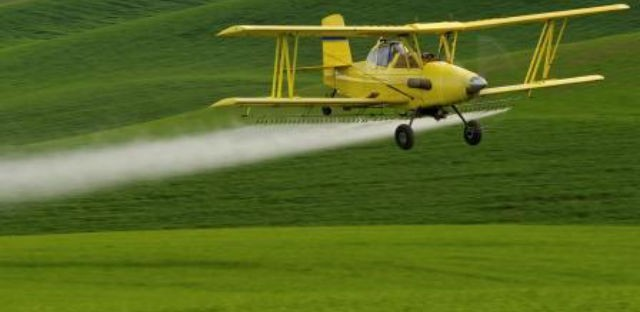Aeronef_de_service: (204, 1, 635, 153)
